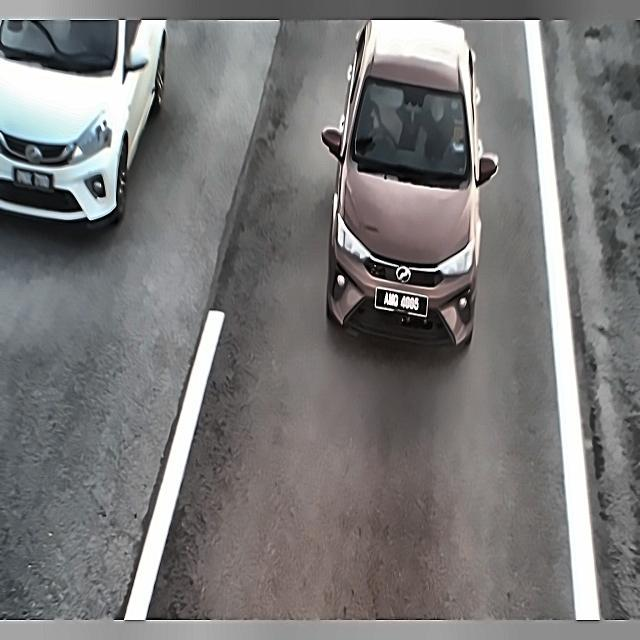car: (374, 283, 434, 325), (8, 166, 60, 195)
